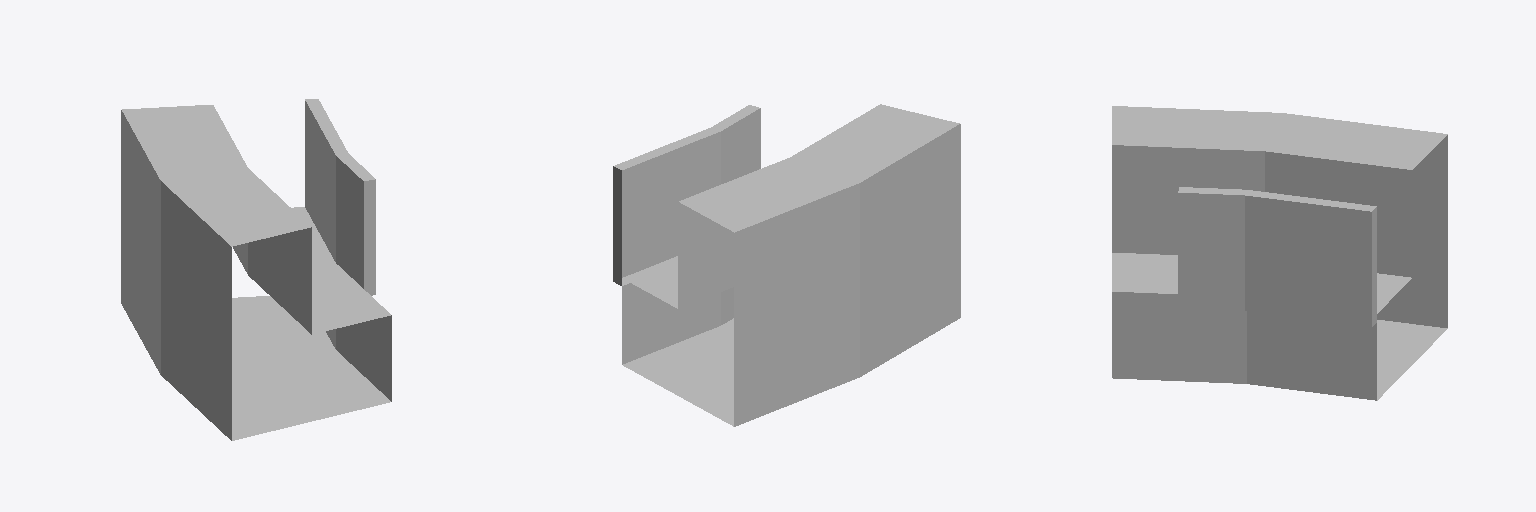
Rendered from top_10.obj.
The picture shows the model from 3 angles: view 1: azimuth 30°, elevation 25°; view 2: azimuth 150°, elevation 25°; view 3: azimuth 270°, elevation 25°; orthographic projection.
Visible parts, largest first — view 1: Cylinder.037; view 2: Cylinder.037; view 3: Cylinder.037.
Part boxes in pixels (x1,y1,x2,y2): Cylinder.037: (121,99,391,440); Cylinder.037: (613,104,960,426); Cylinder.037: (1112,106,1447,400).
Bounding box in the file's own units: 10.98 × 9.41 × 14.74.